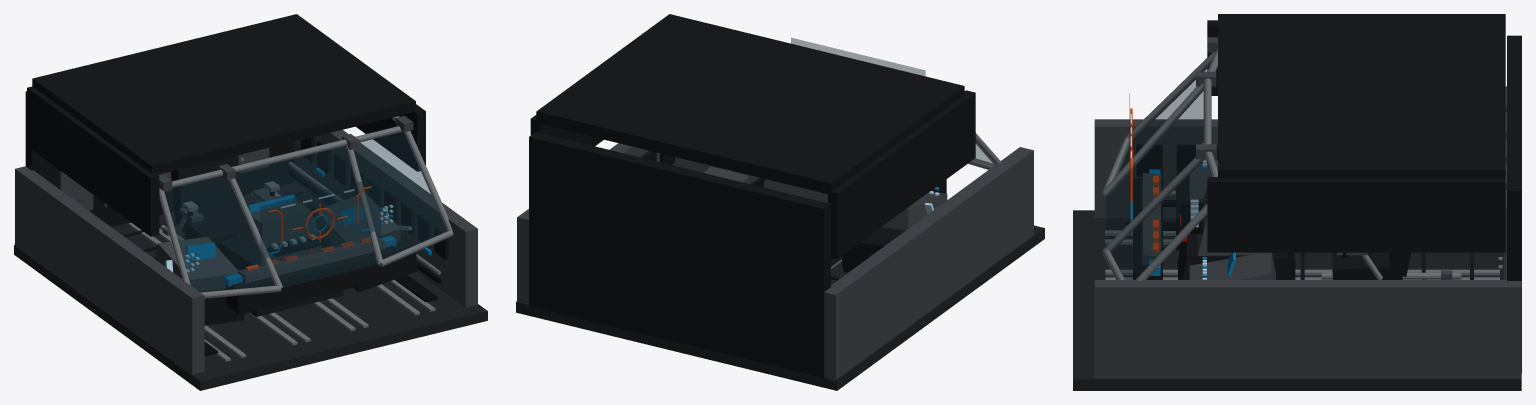
Rendered from starship_cockpit.obj.
The picture shows the model from 3 angles, left to right: view 1: azimuth 30°, elevation 25°; view 2: azimuth 150°, elevation 25°; view 3: azimuth 270°, elevation 25°; orthographic projection. The views are drawn at different scales.
Parts seen in each view (by area): view 1: Ceiling, Forward_Canopy_Glass, Floor_Base, Port_Lower_Wall, Port_Upper_Wall, Starboard_Lower_Wall, HUD_Glass, Canopy_Frame, Forward_Dash, Rear_Bulkhead, Starboard_Paneling, Central_Console_Housing (+18 smaller); view 2: Rear_Bulkhead, Ceiling, Port_Lower_Wall, Port_Upper_Wall, Floor_Base, Starboard_Lower_Wall, Port_Console, Port_Console_Armor, HUD_Glass, Starboard_Upper_Wall, Central_Console_Housing, Canopy_Frame; view 3: Ceiling, Starboard_Lower_Wall, Starboard_Upper_Wall, Floor_Base, Forward_Canopy_Glass, Canopy_Frame, Port_Lower_Wall, Rear_Bulkhead, Starboard_Console_Armor, Floor_Rails, Central_Console_Base, Pilot_Seat_Cushion (+11 smaller).
Part boxes in pixels (bbox=[...]): Ceiling: bbox=[32, 14, 415, 174]; Forward_Canopy_Glass: bbox=[164, 132, 447, 291]; Floor_Base: bbox=[14, 182, 487, 390]; Port_Lower_Wall: bbox=[15, 166, 204, 374]; Port_Upper_Wall: bbox=[27, 86, 159, 236]; Starboard_Lower_Wall: bbox=[294, 129, 477, 307]; HUD_Glass: bbox=[260, 177, 380, 265]; Canopy_Frame: bbox=[159, 116, 453, 298]; Forward_Dash: bbox=[226, 245, 399, 314]; Rear_Bulkhead: bbox=[25, 91, 294, 226]; Starboard_Paneling: bbox=[300, 136, 448, 259]; Central_Console_Housing: bbox=[235, 199, 321, 265]; Rear_Bulkhead: bbox=[529, 132, 830, 377]; Ceiling: bbox=[536, 14, 964, 194]; Port_Lower_Wall: bbox=[824, 147, 1033, 381]; Port_Upper_Wall: bbox=[828, 90, 975, 258]; Floor_Base: bbox=[516, 225, 1044, 390]; Starboard_Lower_Wall: bbox=[517, 143, 675, 306]; Port_Console: bbox=[841, 227, 905, 272]; Port_Console_Armor: bbox=[882, 192, 947, 230]; HUD_Glass: bbox=[791, 38, 925, 75]; Starboard_Upper_Wall: bbox=[530, 115, 603, 146]; Central_Console_Housing: bbox=[763, 179, 827, 202]; Canopy_Frame: bbox=[968, 133, 1001, 169]; Ceiling: bbox=[1218, 14, 1505, 178]; Starboard_Lower_Wall: bbox=[1094, 280, 1521, 378]; Starboard_Upper_Wall: bbox=[1207, 177, 1505, 252]; Floor_Base: bbox=[1073, 210, 1521, 390]; Forward_Canopy_Glass: bbox=[1106, 58, 1212, 279]; Canopy_Frame: bbox=[1102, 50, 1217, 280]; Port_Lower_Wall: bbox=[1094, 119, 1217, 217]; Rear_Bulkhead: bbox=[1507, 35, 1521, 373]; Starboard_Console_Armor: bbox=[1189, 252, 1275, 279]; Floor_Rails: bbox=[1105, 230, 1499, 279]; Central_Console_Base: bbox=[1178, 233, 1295, 279]; Pilot_Seat_Cushion: bbox=[1332, 252, 1401, 279].
Size of the model in its own units: 7.45 by 4.41 by 8.36.
